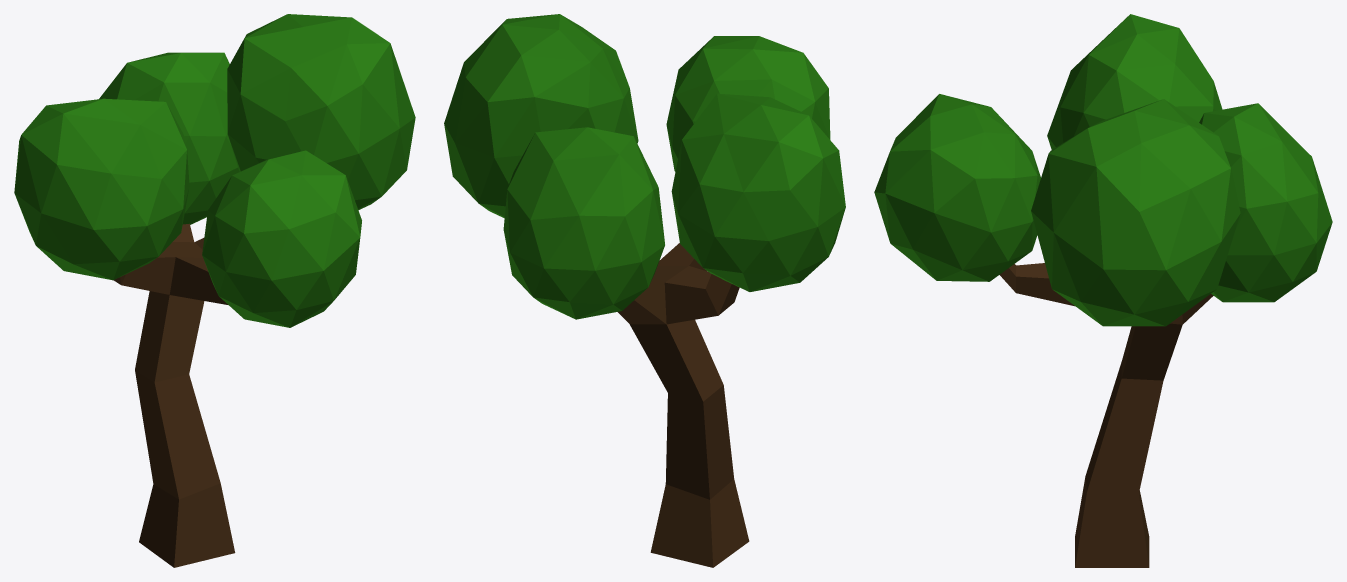
The model's file is Tree_var3.fbx.
3 views of the same model, side by side, from view 1: azimuth 30°, elevation 25°; view 2: azimuth 150°, elevation 25°; view 3: azimuth 270°, elevation 25° (orthographic). The views are drawn at different scales.
Visible parts, largest first — view 1: Tree3_LOD0; view 2: Tree3_LOD0; view 3: Tree3_LOD0.
Boxes of the visible parts, left/top/right/bottom form: Tree3_LOD0: left=14, top=14, right=415, bottom=567; Tree3_LOD0: left=444, top=14, right=845, bottom=567; Tree3_LOD0: left=874, top=14, right=1332, bottom=567.
Size of what is drawn, in the model's own units: 696 by 869 by 713.
